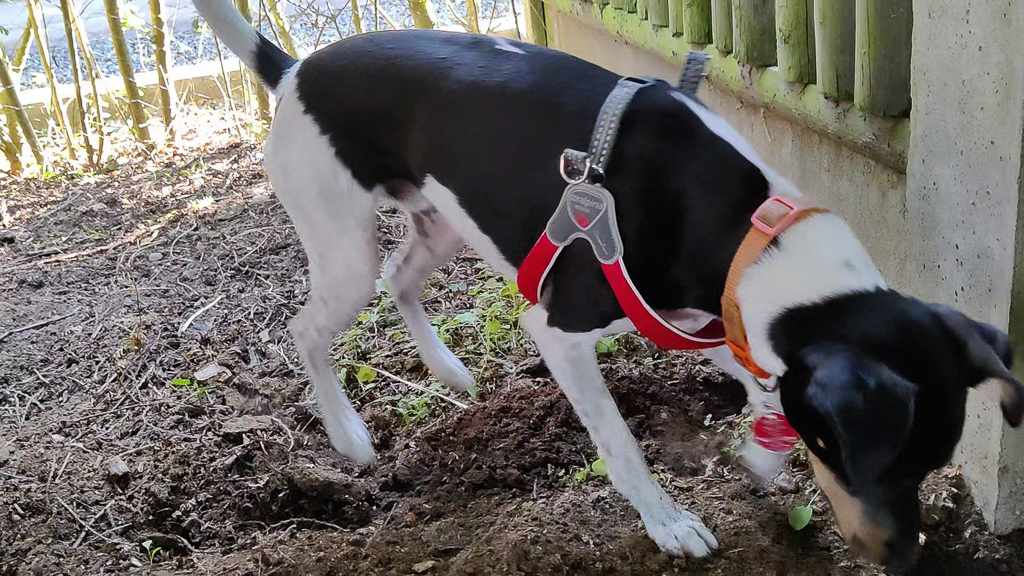Dog: (180, 0, 1024, 576)
